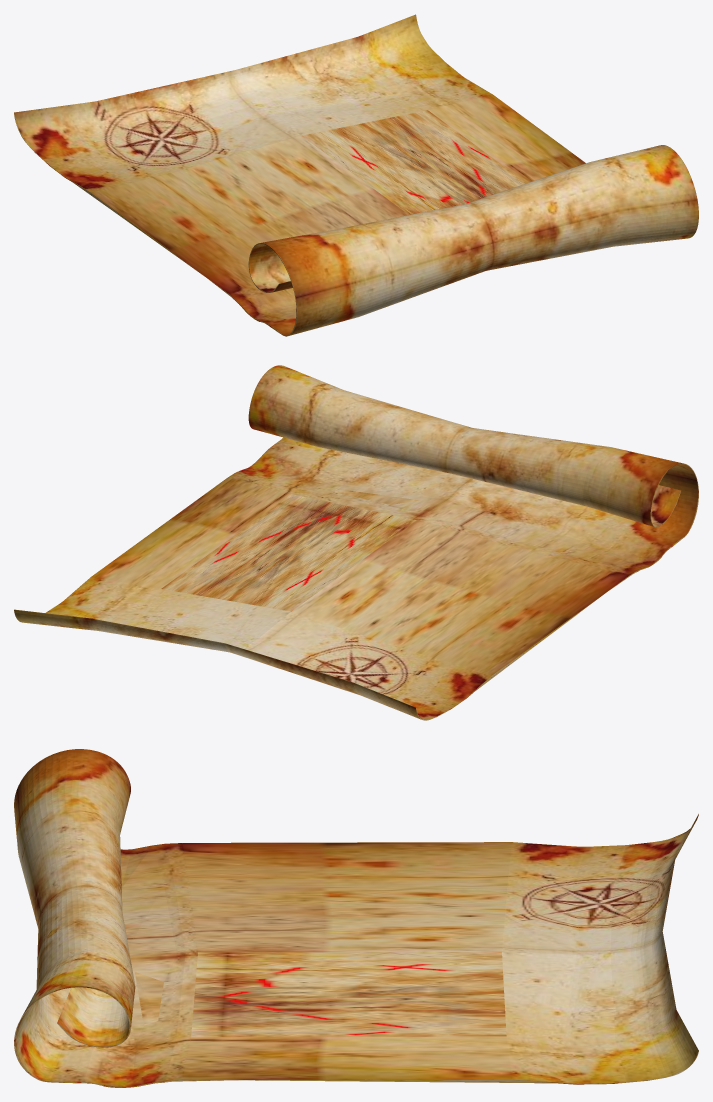
Rendered from Schatzkarte_ChristophMüller_07.01.2016.fbx.
The picture shows the model from 3 angles, top to bottom: view 1: azimuth 30°, elevation 25°; view 2: azimuth 150°, elevation 25°; view 3: azimuth 270°, elevation 25°; orthographic projection. The views are drawn at different scales.
Visible parts, largest first — view 1: Schatzkarte; view 2: Schatzkarte; view 3: Schatzkarte.
Part boxes in pixels (x1,y1,x2,y2): Schatzkarte: (14, 14, 698, 336); Schatzkarte: (14, 365, 698, 720); Schatzkarte: (14, 749, 698, 1087).
Size of the model in its own units: 215 by 42.9 by 262.
2 materials, 2 textured.
